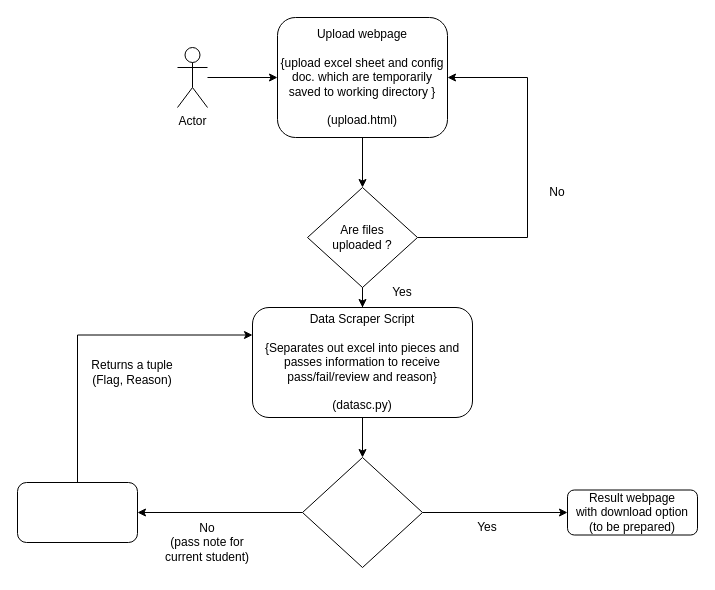
Image size: 715x590. Some labels were removed from this diagram. Here are the shapes that lost their labels. From the top down, the centre of each, then its label:
At (x=77, y=512): "NLP (to be prepared)".
At (x=362, y=512): "end of data ?".
